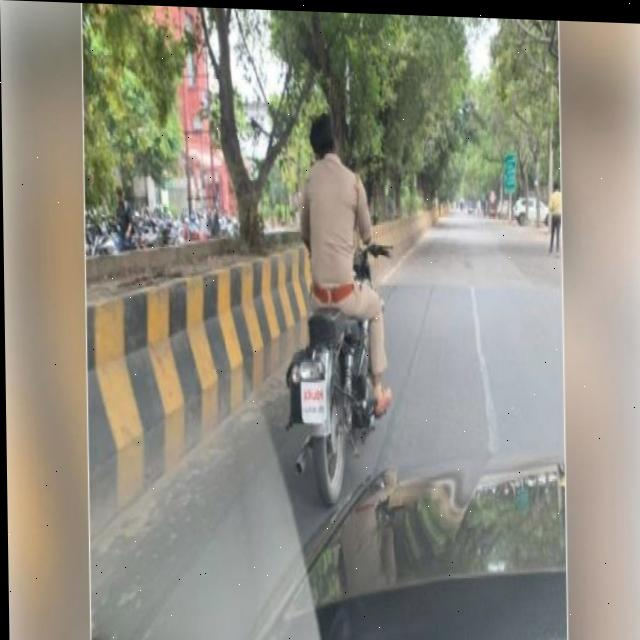without helmet: (302, 95, 340, 170)
